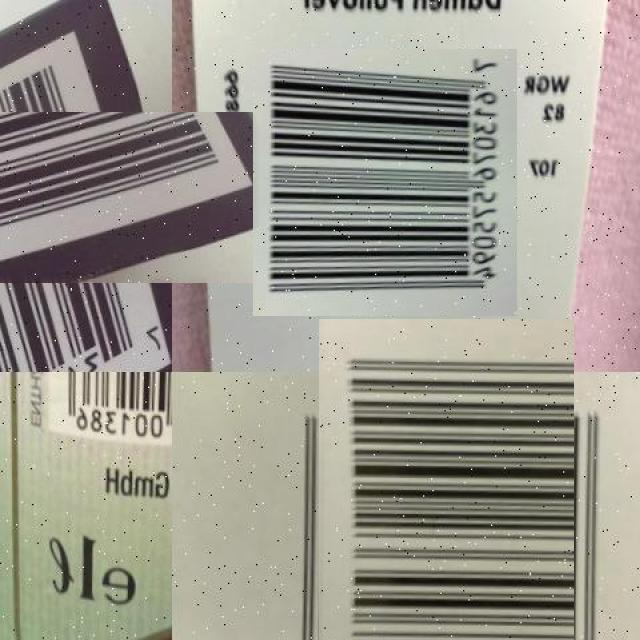Barcode: (285, 352, 607, 640), (252, 49, 517, 316), (0, 68, 216, 328), (40, 372, 172, 447)
